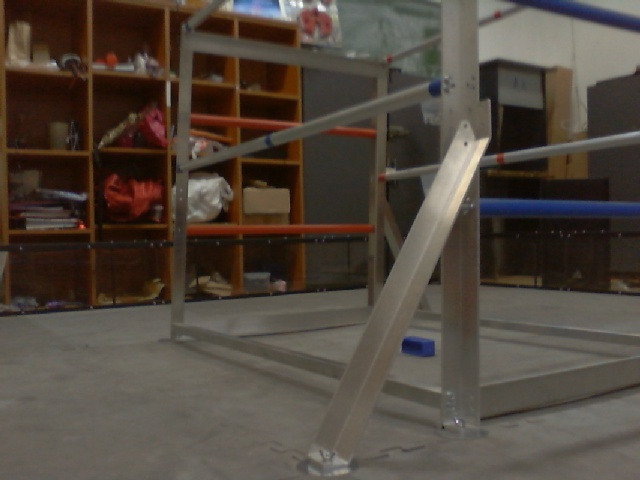BlueSample: (401, 333, 438, 359)
